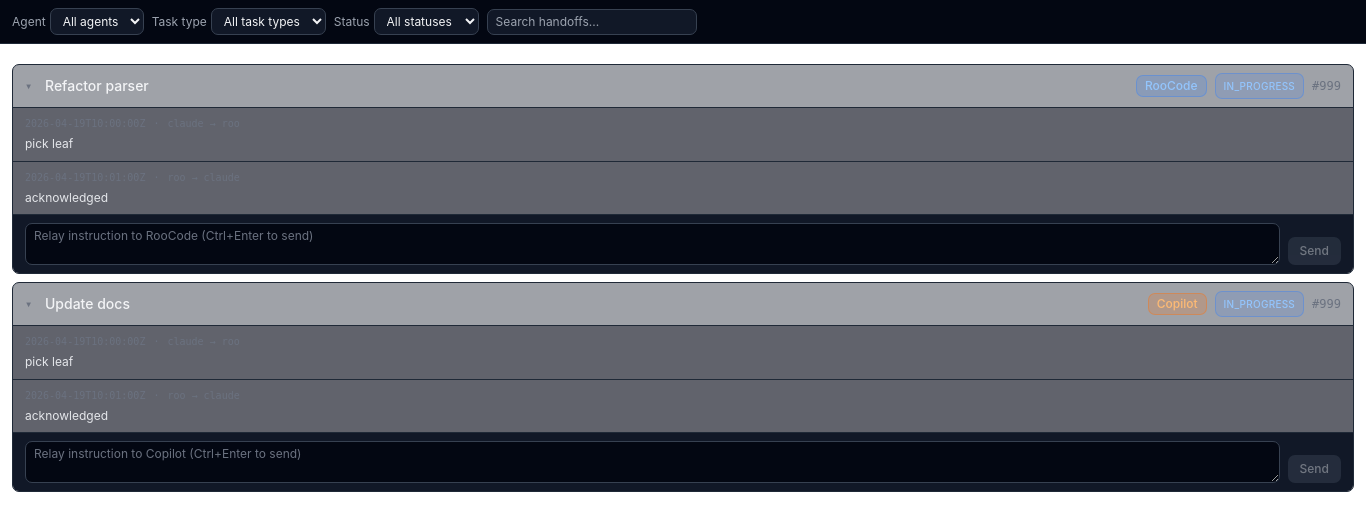
Issue #145 §D.3.a — Coding tab skeleton › CodingTabContent filters threads by case-insensitive search substring on headline
Type "REFACTOR" into the search field labelled "Search handoffs..." at (592, 22), box [487,8,697,34]
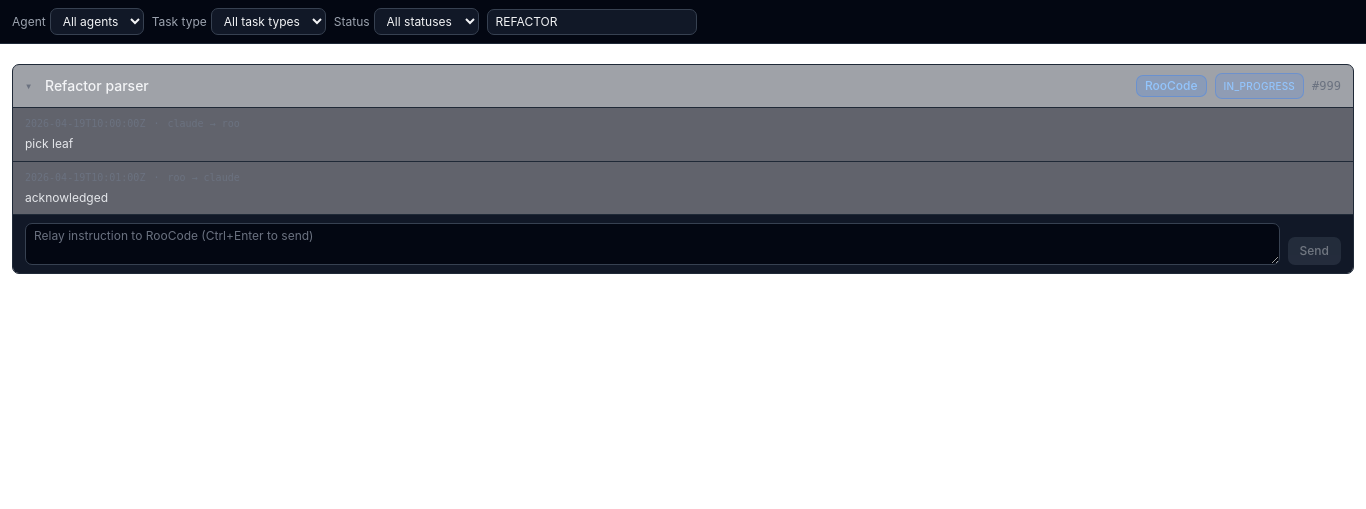
expect the text "Refactor parser" is shown: met, box [45,77,149,94]
expect the button "Update docs" is gone: met
